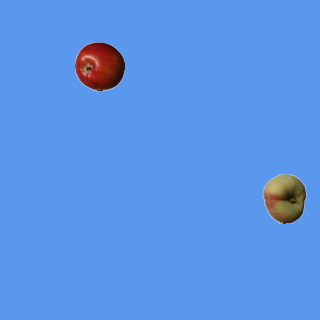Apple Braeburn: (74, 41, 124, 91)
Peach Flat: (259, 173, 309, 223)
